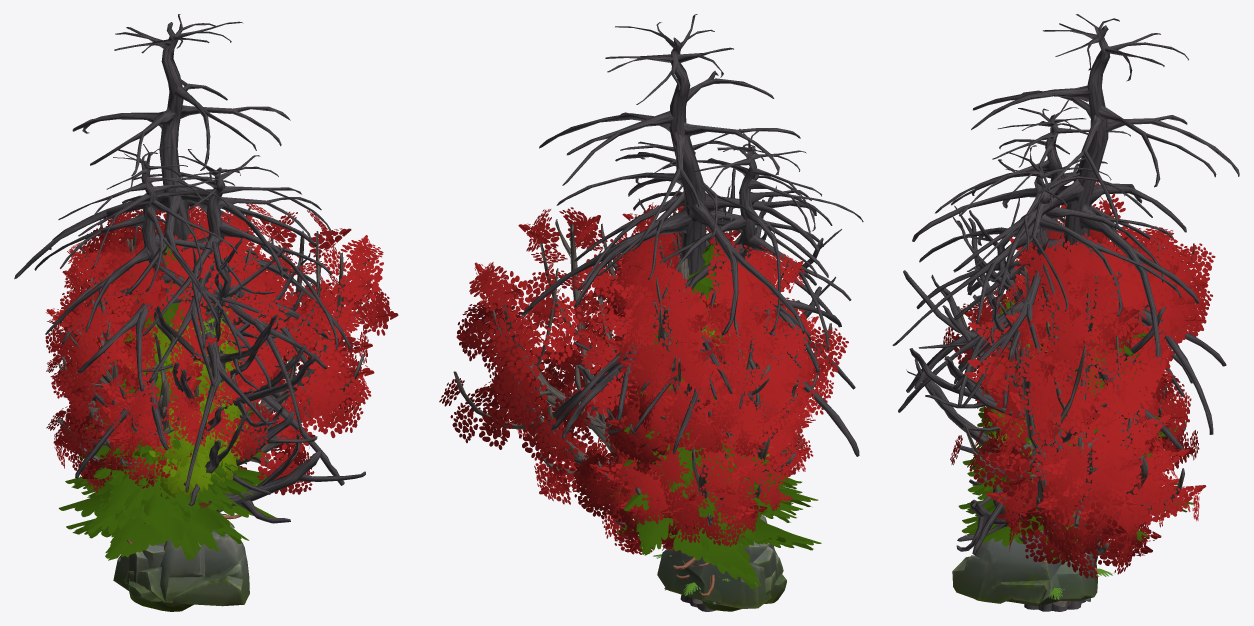
File: nature_qt.glb
3 views of the same model, side by side, from view 1: azimuth 30°, elevation 25°; view 2: azimuth 150°, elevation 25°; view 3: azimuth 270°, elevation 25° (orthographic). The views are drawn at different scales.
Parts seen in each view (by area): view 1: TwistedTree_1, TwistedTree_2, TwistedTree_3, DeadTree_5, DeadTree_4, TwistedTree_5, DeadTree_2, DeadTree_3, Rock_Medium_3, Pine_2_lo, DeadTree_1, TwistedTree_4 (+12 smaller); view 2: TwistedTree_1, TwistedTree_5, TwistedTree_2, DeadTree_5, TwistedTree_3, DeadTree_3, DeadTree_4, TwistedTree_4, Rock_Medium_2, Pine_5_lo, Pine_5, Pine_4 (+6 smaller); view 3: TwistedTree_1, DeadTree_5, TwistedTree_5, TwistedTree_3, DeadTree_4, DeadTree_2, Rock_Medium_3, DeadTree_3, TwistedTree_4, DeadTree_1, Rock_Medium_2, TwistedTree_2 (+2 smaller).
Part boxes in pixels (bbox=[...]): TwistedTree_1: bbox=[189, 203, 398, 495]; TwistedTree_2: bbox=[45, 240, 260, 488]; TwistedTree_3: bbox=[53, 210, 335, 478]; DeadTree_5: bbox=[14, 14, 344, 485]; DeadTree_4: bbox=[59, 149, 351, 492]; TwistedTree_5: bbox=[79, 206, 297, 396]; DeadTree_2: bbox=[111, 218, 365, 523]; DeadTree_3: bbox=[34, 144, 271, 391]; Rock_Medium_3: bbox=[129, 512, 249, 611]; Pine_2_lo: bbox=[72, 457, 253, 560]; DeadTree_1: bbox=[89, 288, 317, 494]; TwistedTree_4: bbox=[74, 205, 294, 492]; TwistedTree_1: bbox=[439, 207, 702, 604]; TwistedTree_5: bbox=[587, 225, 787, 483]; TwistedTree_2: bbox=[628, 215, 833, 518]; DeadTree_5: bbox=[521, 14, 859, 607]; TwistedTree_3: bbox=[569, 202, 848, 554]; DeadTree_3: bbox=[634, 129, 863, 432]; DeadTree_4: bbox=[556, 133, 855, 611]; TwistedTree_4: bbox=[613, 221, 776, 551]; Rock_Medium_2: bbox=[657, 541, 771, 608]; Pine_5_lo: bbox=[610, 338, 808, 575]; Pine_5: bbox=[614, 327, 808, 575]; Pine_4: bbox=[610, 244, 818, 596]; TwistedTree_1: bbox=[950, 273, 1206, 606]; DeadTree_5: bbox=[912, 14, 1239, 611]; TwistedTree_5: bbox=[991, 212, 1215, 459]; TwistedTree_3: bbox=[943, 212, 1212, 566]; DeadTree_4: bbox=[892, 145, 1192, 611]; DeadTree_2: bbox=[903, 193, 1147, 551]; Rock_Medium_3: bbox=[952, 538, 1061, 603]; DeadTree_3: bbox=[935, 100, 1184, 610]; TwistedTree_4: bbox=[973, 224, 1204, 554]; DeadTree_1: bbox=[942, 277, 1165, 505]; Rock_Medium_2: bbox=[1052, 551, 1097, 601]; TwistedTree_2: bbox=[992, 181, 1148, 452].
Bounding box in the file's own units: 6.76 × 9.86 × 5.35.
13 materials, 13 textured.
